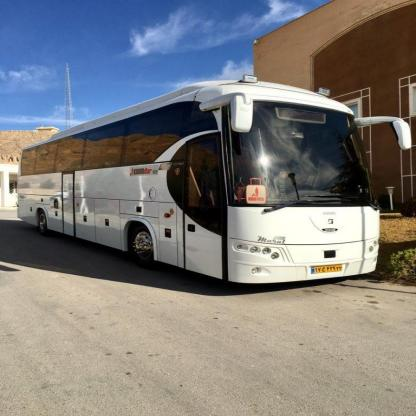Bus: (16, 85, 416, 308)
